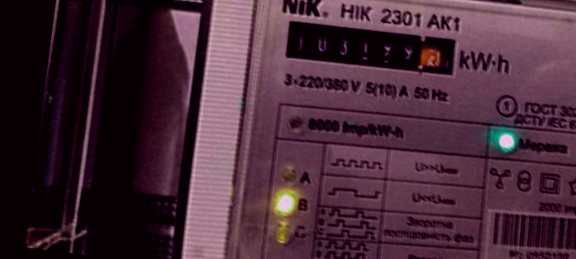0: (314, 36, 327, 57), (291, 34, 302, 53)
1: (358, 39, 369, 58)
3: (336, 39, 348, 60)
6: (423, 55, 435, 70)
9: (379, 41, 391, 62), (401, 45, 413, 65)
screen: (275, 12, 463, 89)
